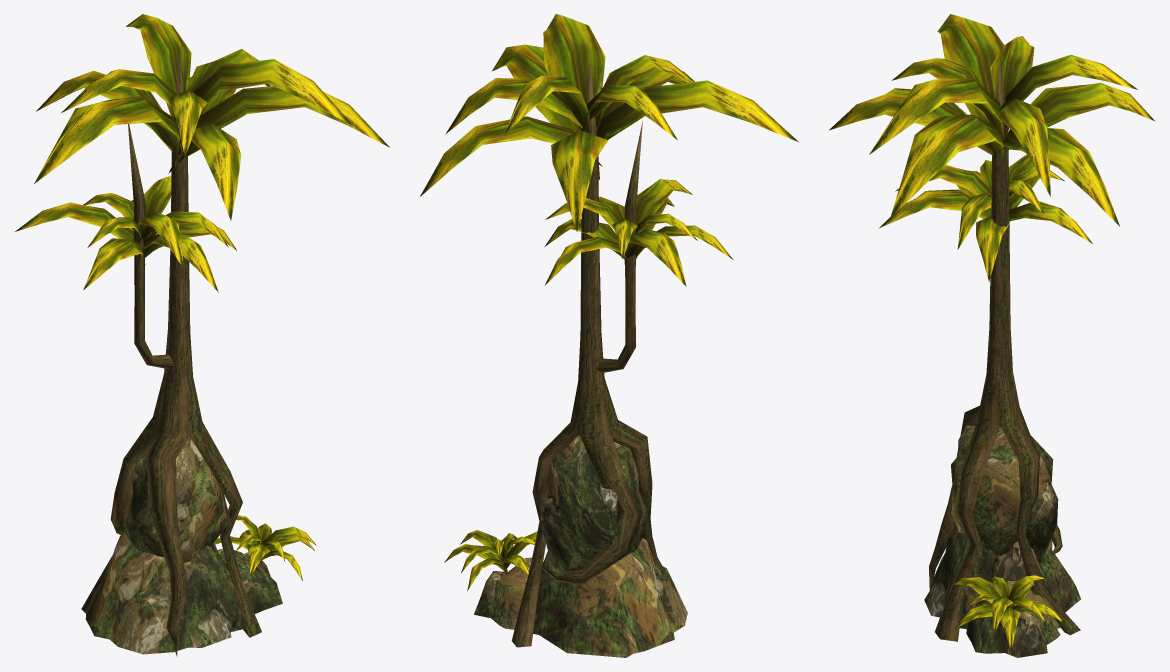
Rendered from Tree02.FBX.
The picture shows the model from 3 angles, left to right: view 1: azimuth 30°, elevation 25°; view 2: azimuth 150°, elevation 25°; view 3: azimuth 270°, elevation 25°; orthographic projection.
Visible parts, largest first — view 1: Leaf (×2), Rock (×3), Bark, Weeds; view 2: Leaf (×2), Rock (×3), Bark, Weeds; view 3: Leaf (×2), Rock (×3), Bark, Weeds.
Part boxes in pixels (x1,y1,x2,y2): Leaf (×2): [15, 14, 389, 292]; Rock (×3): [81, 436, 282, 654]; Bark: [110, 54, 261, 656]; Weeds: [214, 515, 316, 580]; Leaf (×2): [420, 14, 798, 286]; Rock (×3): [474, 435, 687, 657]; Bark: [511, 60, 661, 647]; Weeds: [444, 530, 537, 590]; Leaf (×2): [829, 14, 1155, 281]; Rock (×3): [924, 425, 1080, 657]; Bark: [929, 56, 1080, 641]; Weeds: [952, 575, 1063, 649].
Size of the model in its own units: 736 by 1214 by 636.
